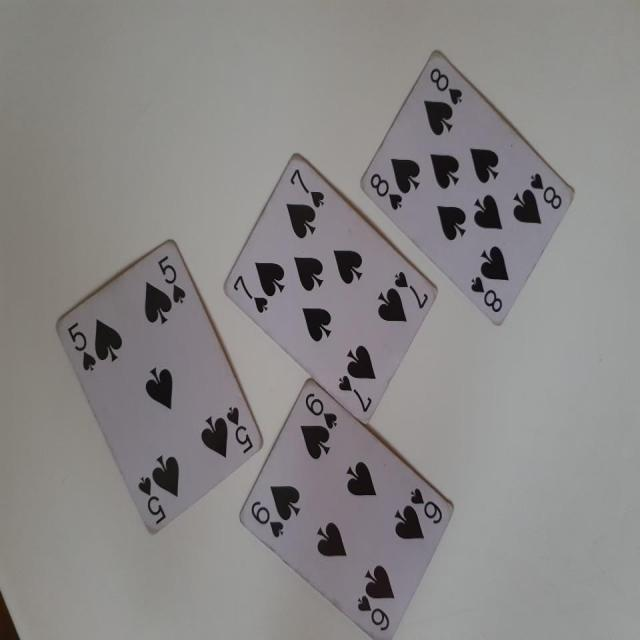5 Spades: (44, 234, 264, 548)
6 Spades: (235, 374, 454, 640)
7 Spades: (210, 139, 435, 433)
8 Spades: (354, 49, 581, 342)
